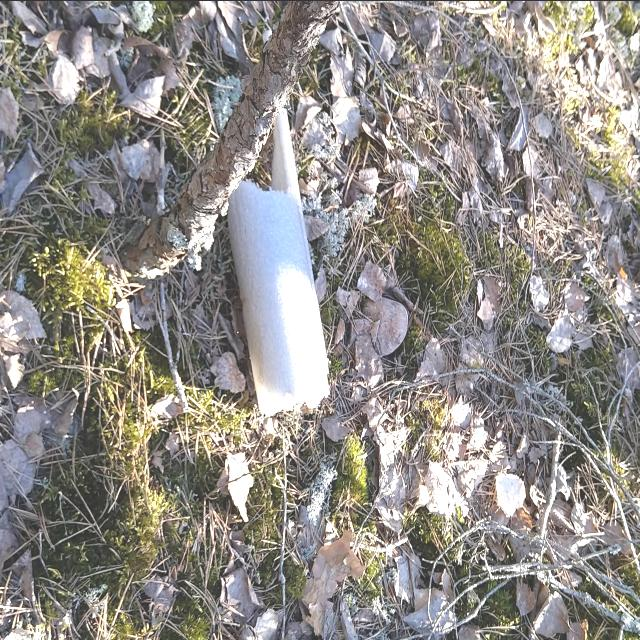Styrofoam piece: (227, 107, 330, 417)
